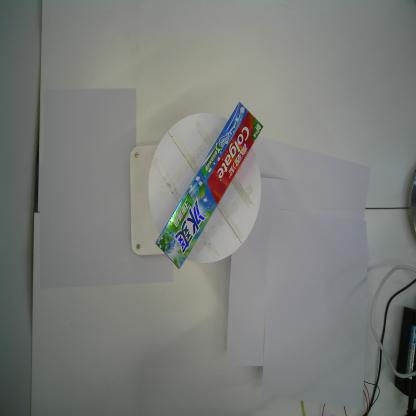Personal Hygiene: (155, 101, 264, 271)
